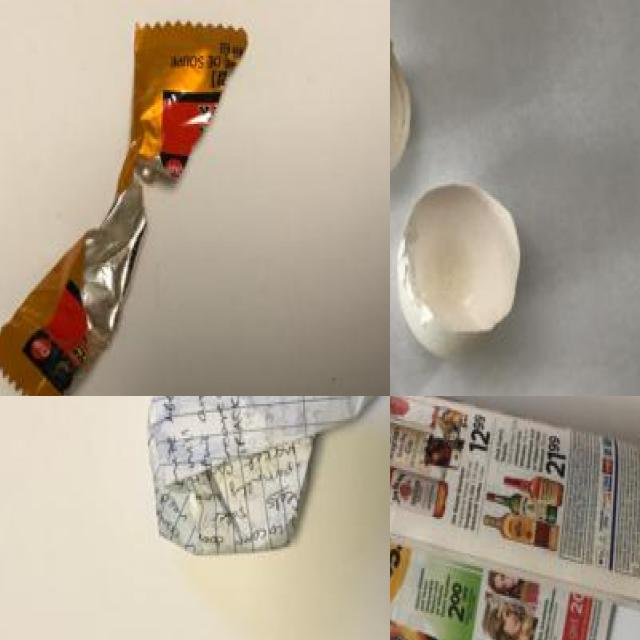compost: (390, 0, 542, 346)
paper: (390, 396, 640, 640), (146, 396, 390, 557)
trash: (0, 3, 263, 396)
